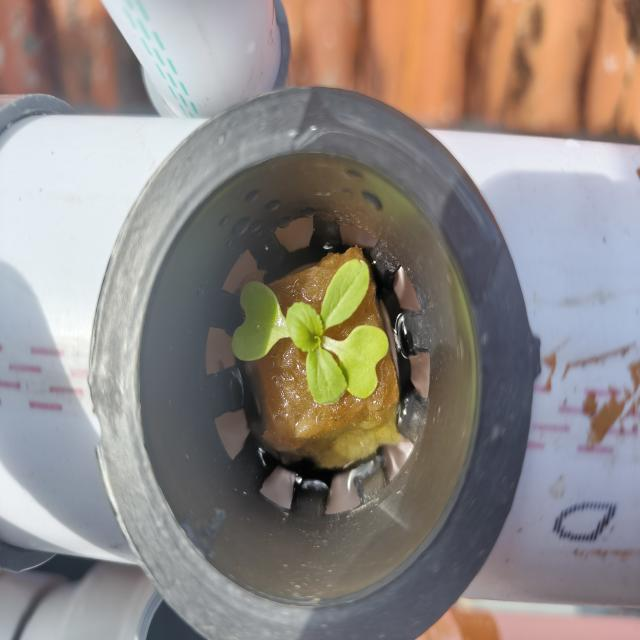daun-pakcoy: (323, 326, 389, 399), (232, 281, 289, 361), (321, 248, 370, 331), (306, 348, 347, 404), (286, 302, 324, 353)
